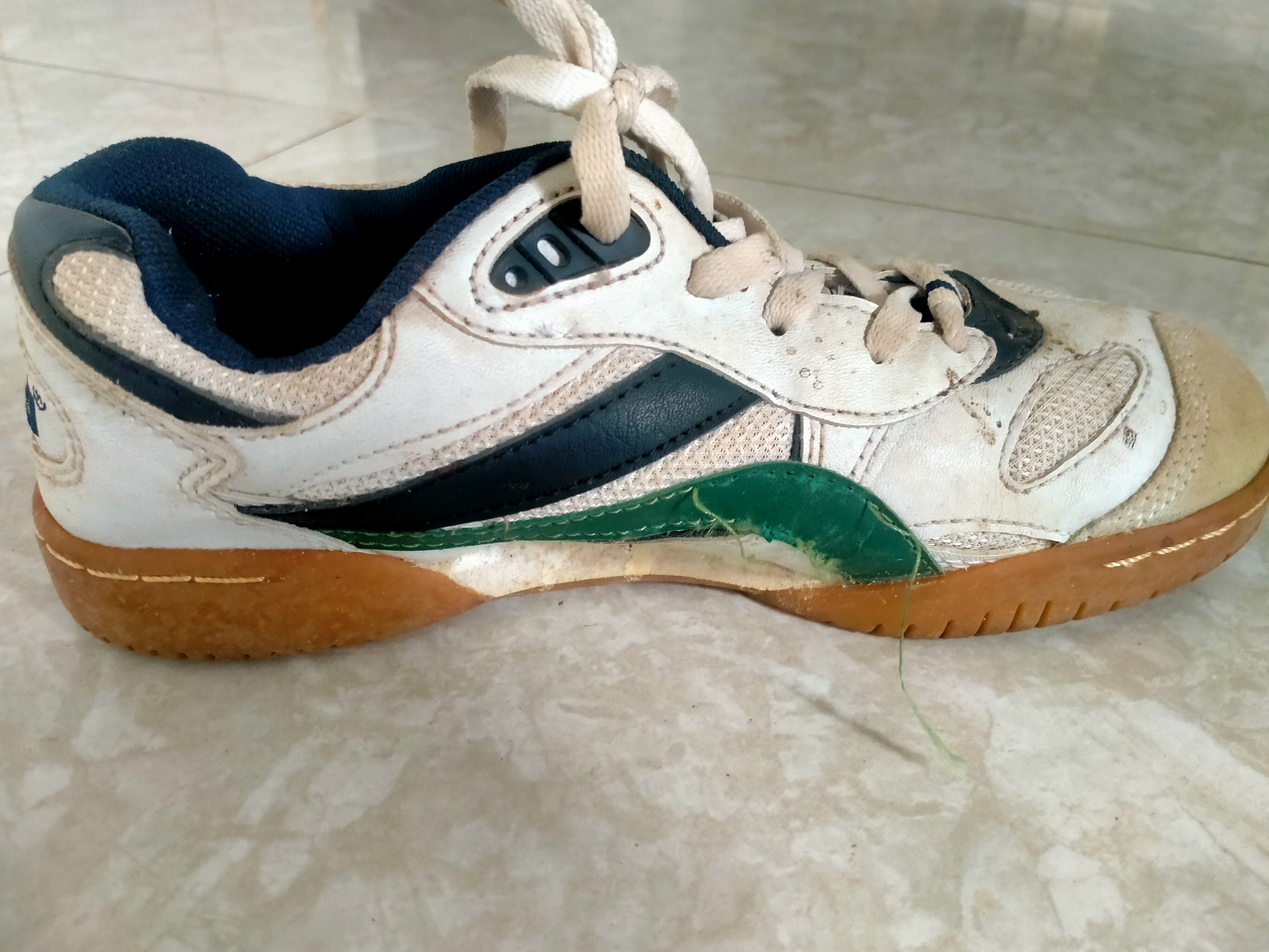broken: (701, 469, 870, 505), (732, 509, 799, 540), (507, 330, 569, 339)
